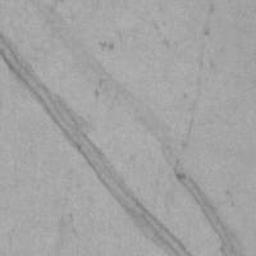Water spot: (31, 0, 252, 256), (0, 31, 196, 256)
